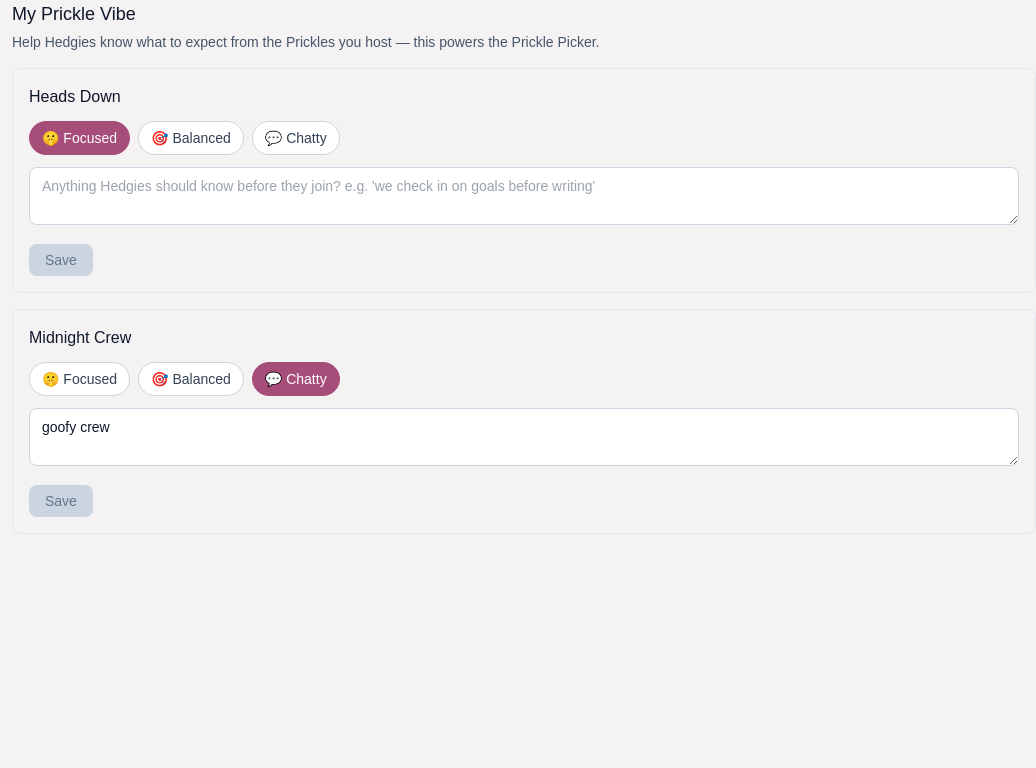
Test: HostVibePanel › disables Save until a change is made, then saves the new vibe
Expected: the button "Save" below "Heads Down" is disabled, [29, 244, 93, 276]
Click the button "💬 Chatty" below "Heads Down". click: (296, 138)
box: [252, 121, 340, 155]
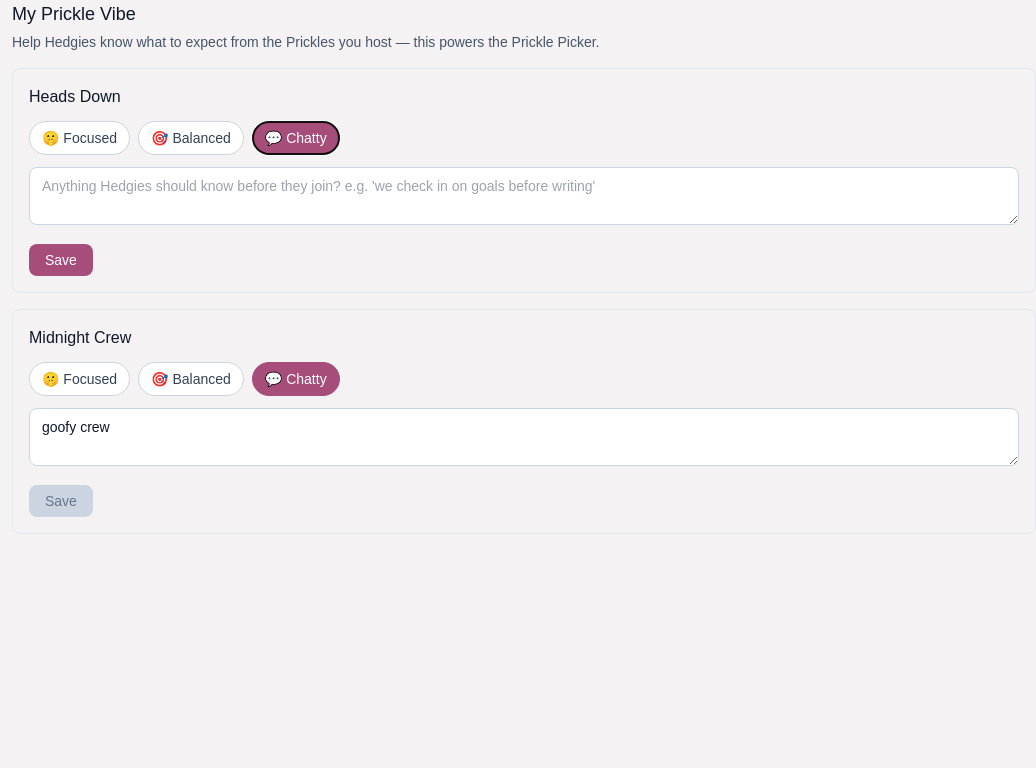
Result: the button "Save" below "Heads Down" is enabled
Click the button "Save" below "Heads Down". click: (61, 260)
box: [29, 244, 93, 276]
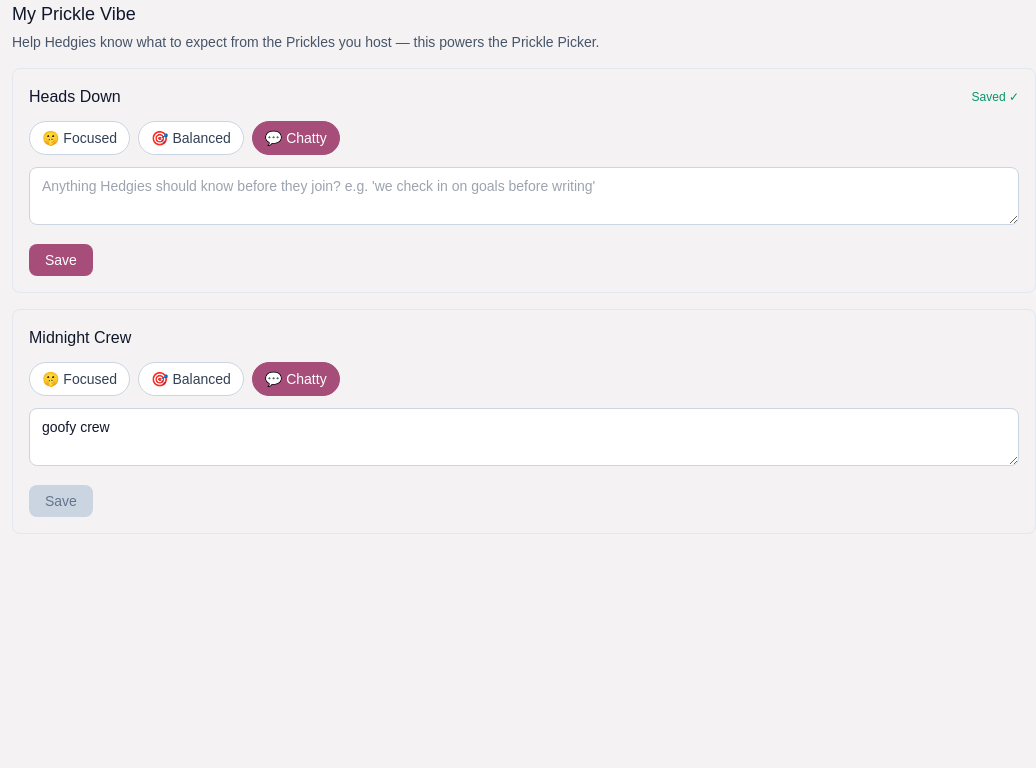
Result: the text "Saved ✓" is shown at [972, 89, 1019, 105]
